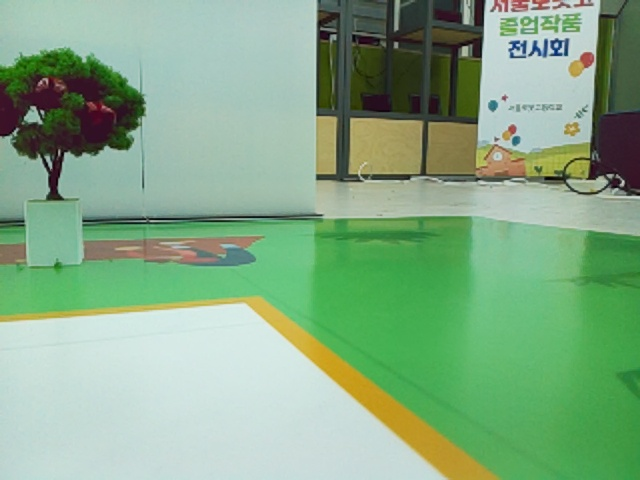apple: (581, 53, 593, 66)
